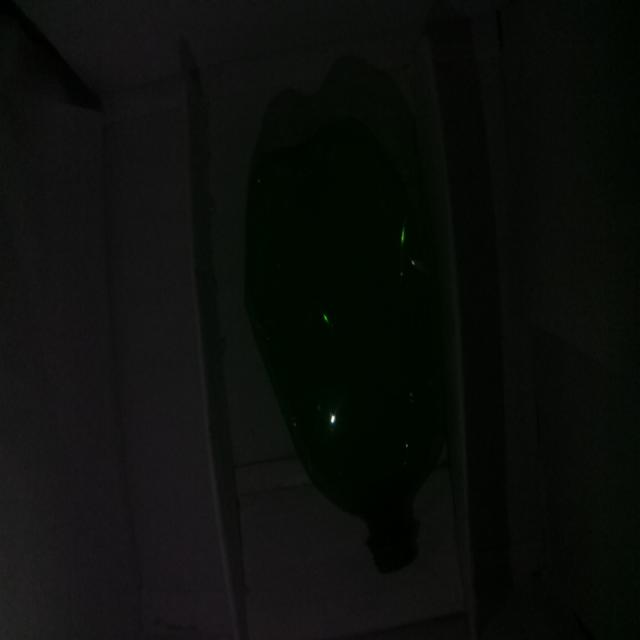Anorganik: (231, 64, 463, 580)
